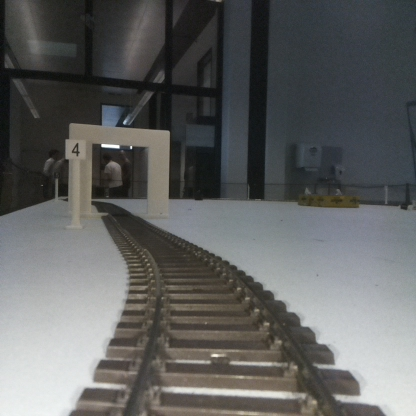white-info-4: (65, 138, 85, 234)
